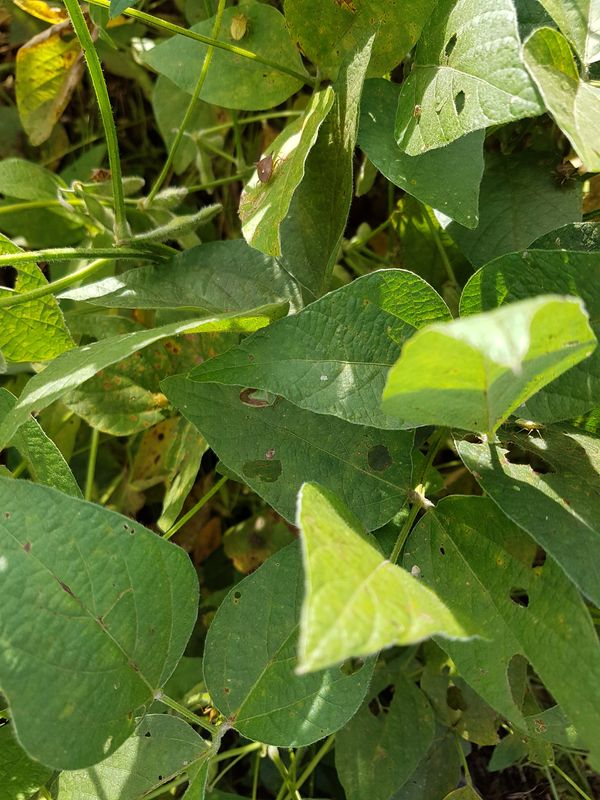Edessa_meditabunda: (232, 380, 285, 418)
Euschistus_heros_adulto: (248, 147, 289, 192), (85, 164, 116, 191)
Euschistus_heros_ninfa: (546, 156, 581, 196), (508, 413, 550, 444), (224, 9, 258, 45)
